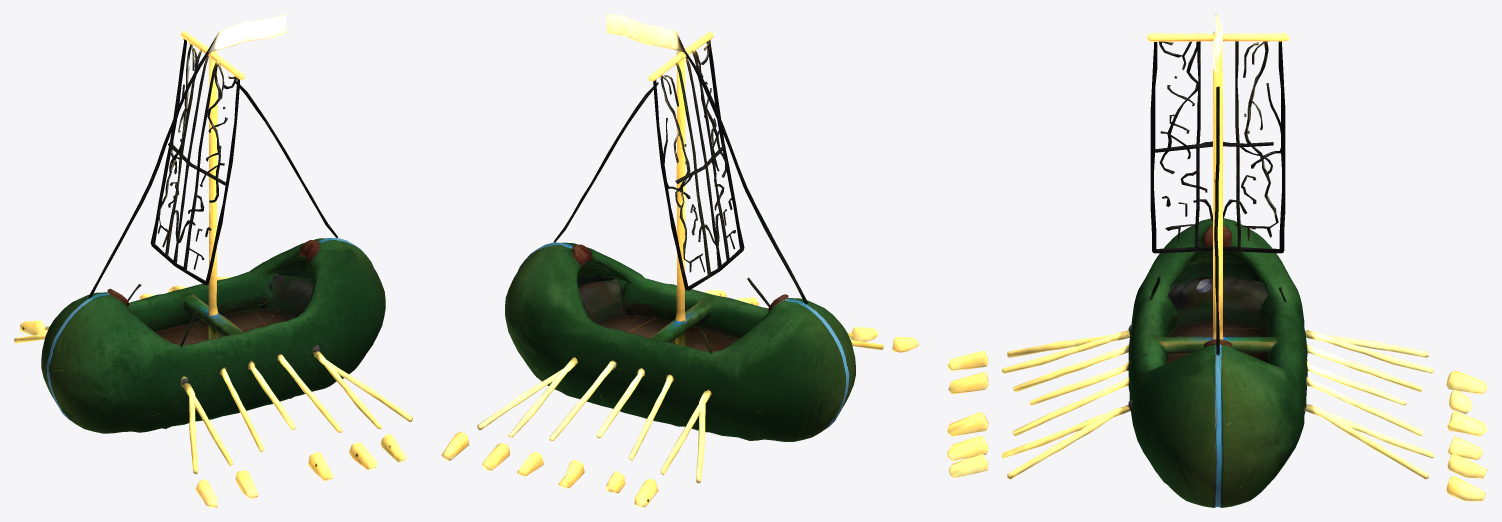
File: sailboat-grass-sculpture.glb
The picture shows the model from 3 angles, left to right: view 1: azimuth 30°, elevation 25°; view 2: azimuth 150°, elevation 25°; view 3: azimuth 270°, elevation 25°; orthographic projection. The views are drawn at different scales.
Size of the model in its own units: 1.56 by 1.65 by 1.9.
Materials: 1 (1 with a texture image).
